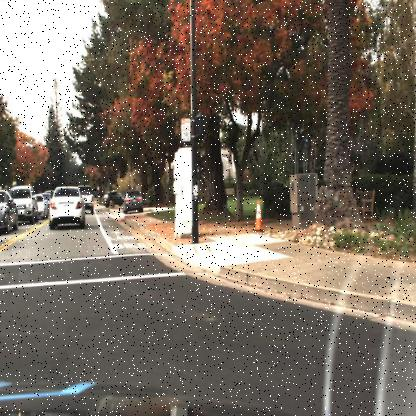car: (48, 184, 84, 232), (50, 186, 84, 232), (5, 184, 39, 226), (0, 188, 19, 235), (0, 187, 18, 232), (120, 189, 144, 215), (76, 183, 94, 217), (80, 186, 96, 215), (102, 187, 124, 208), (37, 194, 49, 220)
